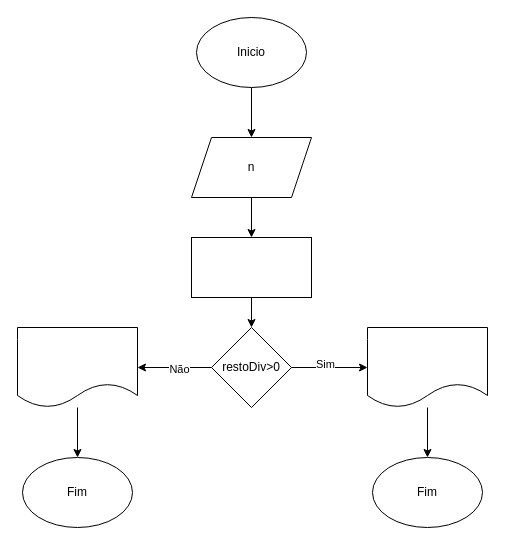
The diagram is 505 pixels wide and 545 high, and some of its shapes have lost their labels. Each missing label, with the box of its shape:
O número informado é impar: (366, 326, 488, 408)
O número informado é par: (16, 326, 138, 408)
restoDiv = n%2: (190, 236, 312, 298)
